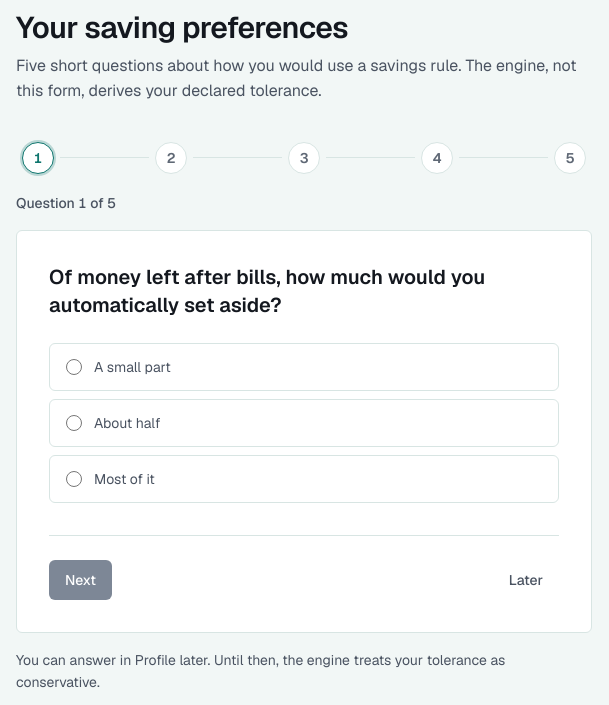
Test: versioned questionnaire › shows a timeline above the card that only lets a person go back to answered questions
Check: the element "Of money left after bills" is shown, box x1=49 y1=263 x2=559 y2=503
Check: the number of list items is 5, box x1=16 y1=136 x2=60 y2=180; x1=149 y1=136 x2=193 y2=180; x1=282 y1=136 x2=326 y2=180; x1=415 y1=136 x2=459 y2=180; x1=548 y1=136 x2=592 y2=180
Click the radio button labelled "Most of it" at [74, 479], box x1=66 y1=471 x2=82 y2=487
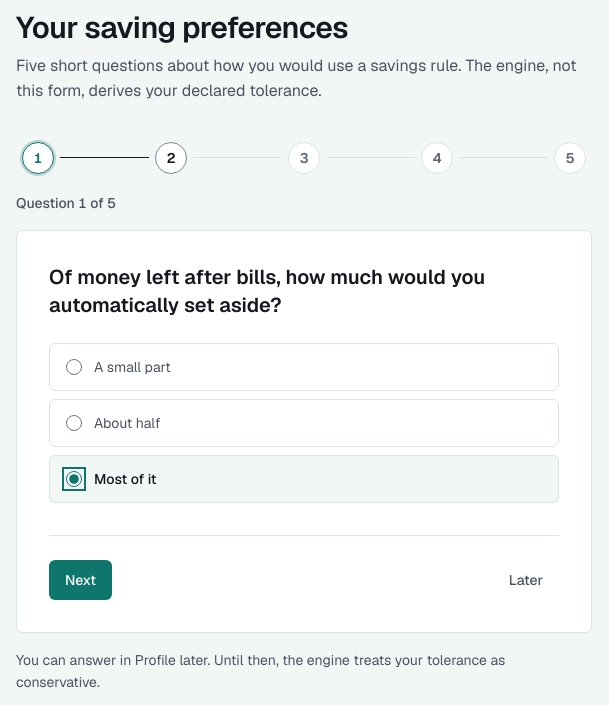
Click the button "Next" at [81, 580], box x1=49 y1=560 x2=112 y2=600
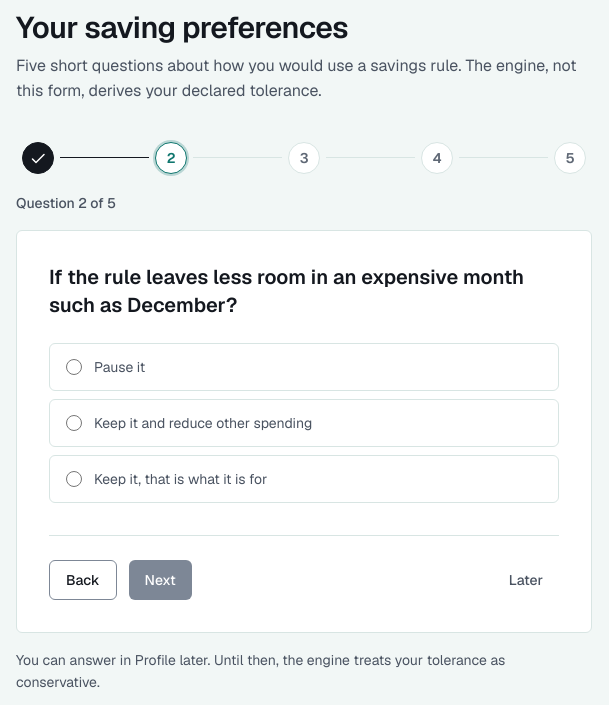
Check: the button named "Question 3 of 5, not reached yet" is disabled, box x1=282 y1=136 x2=326 y2=180
Check: the element "If the rule leaves less room" is shown, box x1=49 y1=263 x2=559 y2=503
Click the button named "Question 1 of 5, answered" at [38, 158], box x1=16 y1=136 x2=60 y2=180
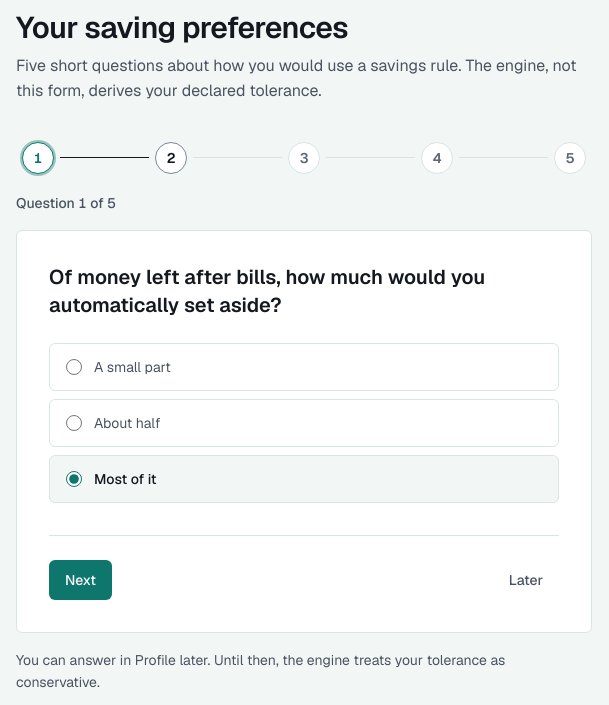
Check: the button named "Question 2 of 5, not answered yet" is enabled, box x1=149 y1=136 x2=193 y2=180
Check: the element "Of money left after bills" is shown, box x1=49 y1=263 x2=559 y2=503
Check: the radio button labelled "Most of it" is checked, box x1=66 y1=471 x2=82 y2=487
